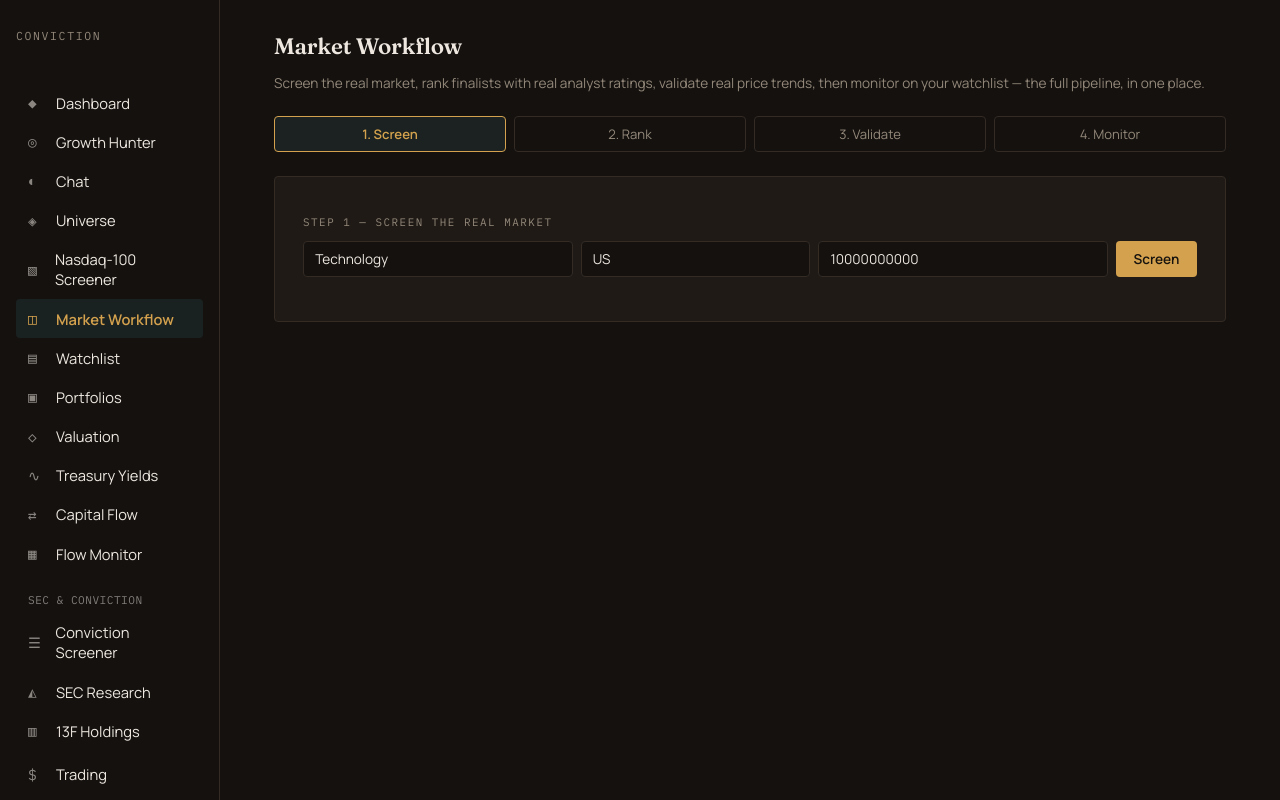
Test: Market Workflow page › Step 1: screening renders real candidates with a Rank action
Click the button "Screen". click: (1156, 260)
box: [1116,242,1197,278]
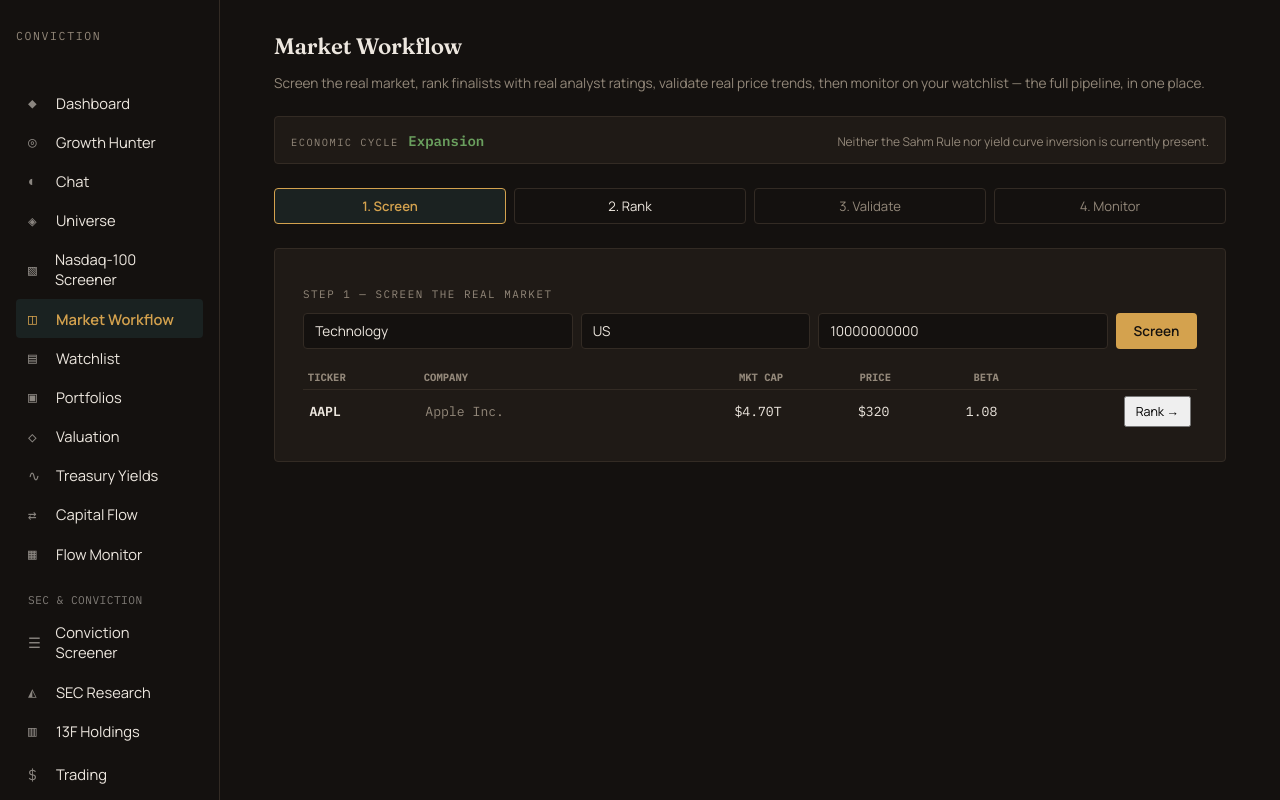
Now the text "AAPL" is shown, box [303,390,419,434]
Now the text "Apple Inc." is shown, box [419,390,642,434]
Now the button "Rank →" is shown, box [1124,396,1191,427]
